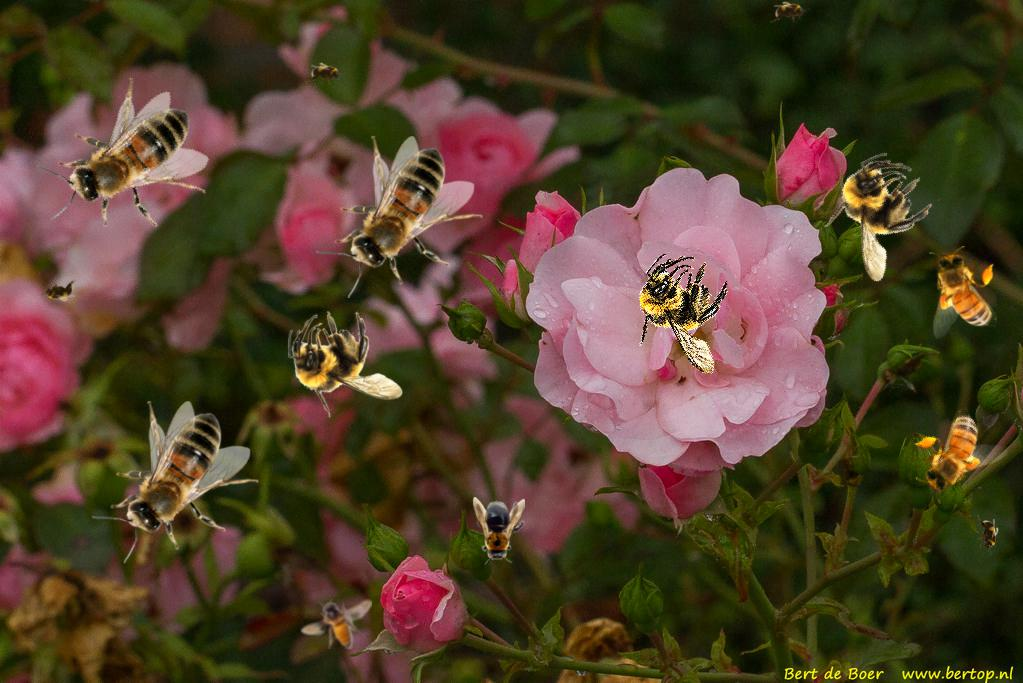Bee: (20, 57, 235, 269), (316, 136, 483, 298), (92, 401, 259, 563), (607, 236, 764, 393), (806, 142, 953, 293), (897, 399, 1013, 508), (288, 311, 403, 418), (929, 246, 997, 339), (301, 599, 372, 649), (473, 497, 525, 565), (304, 60, 348, 88), (38, 278, 80, 304), (977, 515, 999, 555), (770, 1, 810, 23)
